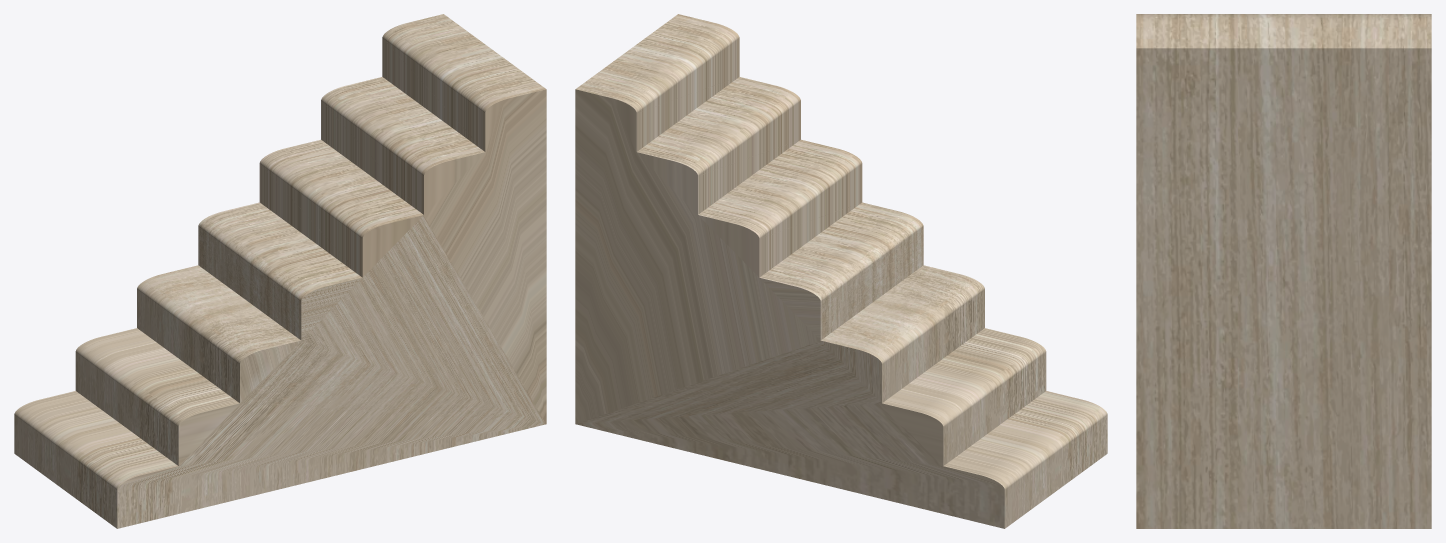
The model's file is modeling05.glb.
3 renders of one model, left to right at view 1: azimuth 30°, elevation 25°; view 2: azimuth 150°, elevation 25°; view 3: azimuth 270°, elevation 25°, orthographic. The views are drawn at different scales.
Visible parts, largest first — view 1: 큐브; view 2: 큐브; view 3: 큐브.
Boxes of the visible parts, x1,y1,x2,y2 form: 큐브: (14, 14, 546, 528); 큐브: (575, 14, 1107, 528); 큐브: (1136, 14, 1431, 528).
Bounding box in the file's own units: 2.78 × 2.07 × 1.15.
Materials: 1 (1 with a texture image).
